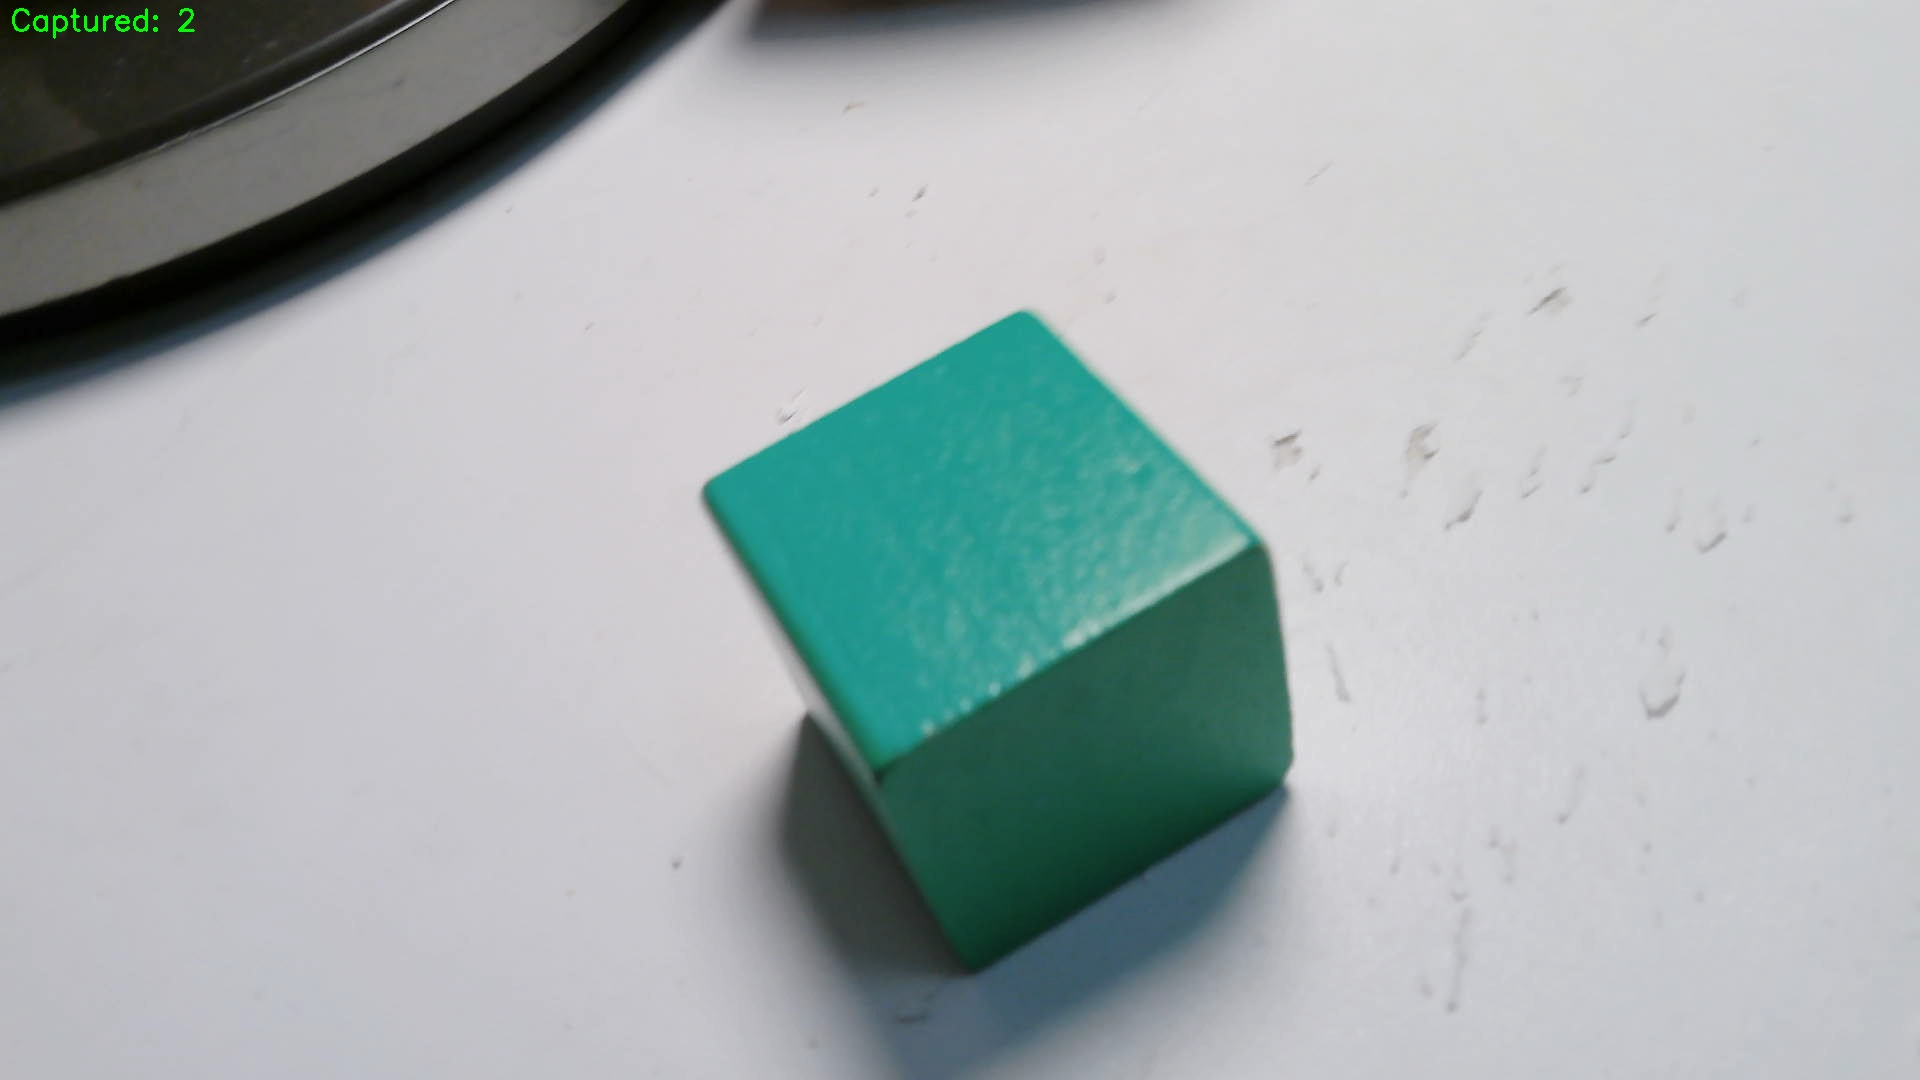green: (700, 311, 1302, 975)
